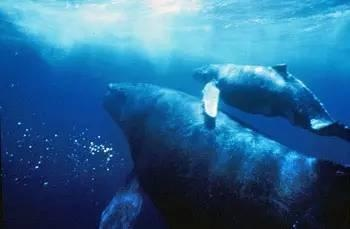fish: (188, 60, 350, 141)
